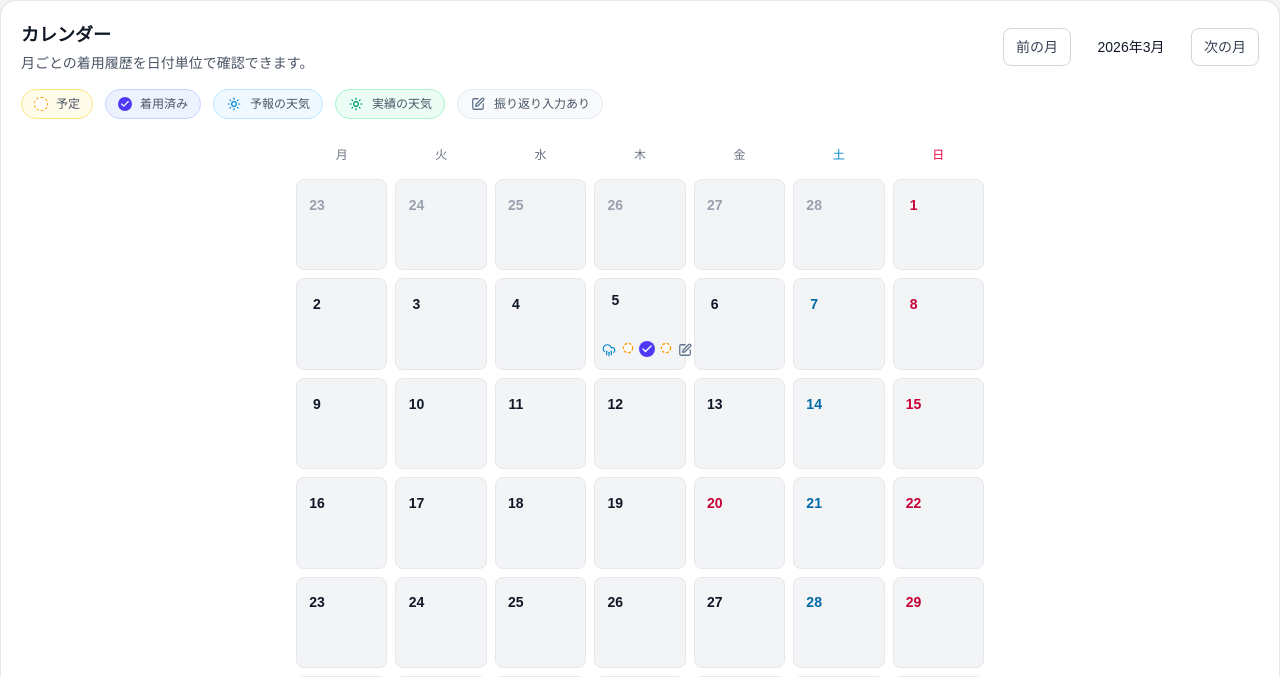
Test: WearLogCalendar › カレンダーと日付詳細モーダルを表示できる
Expected: the element named "天気: 雨（予報）" is shown, [601,342,617,358]
Click the button "5 +1" at x=640, y=324, box [594,278,686,370]
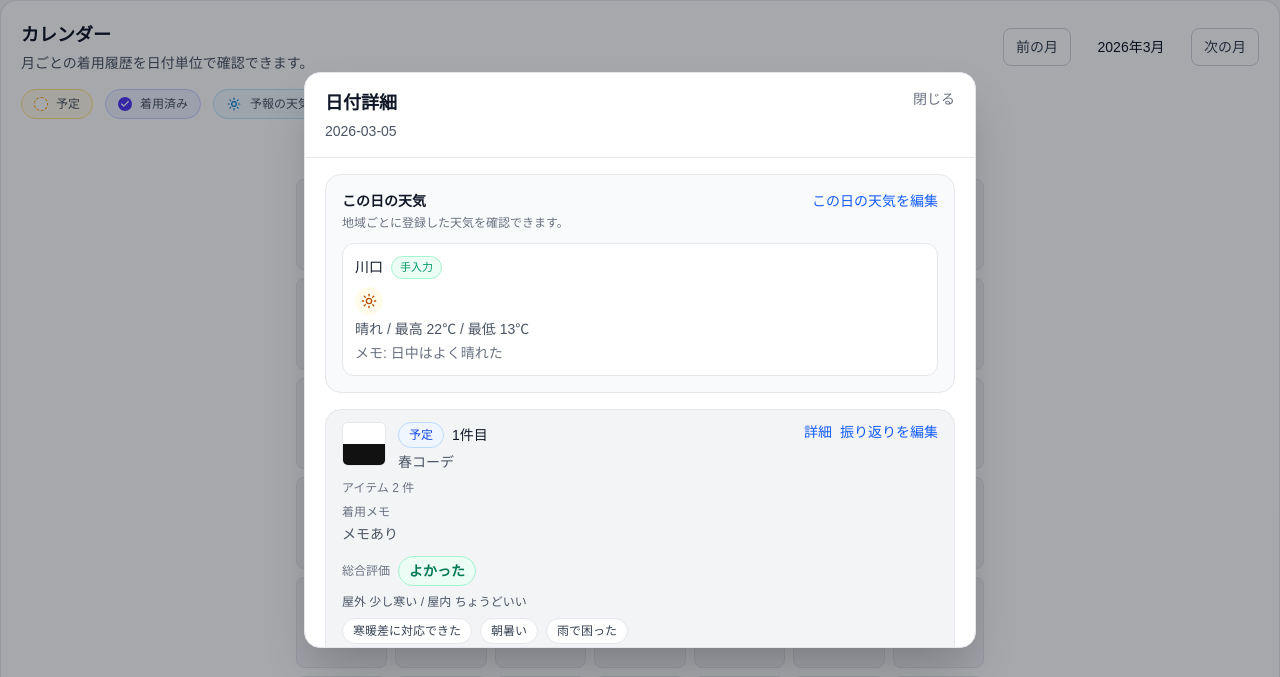
Expected: the text "日付詳細" is shown, [325,89,397,117]
Expected: the text "春コーデ" is shown, [398,454,454,470]
Expected: the text "着用メモ" is shown, [342,504,390,518]
